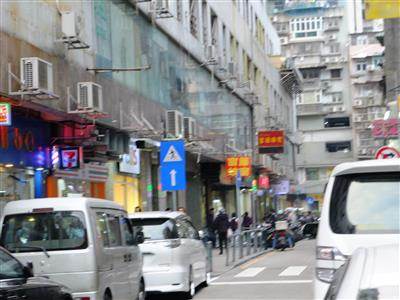oneway: (158, 162, 187, 192)
pedestrianCrossing: (157, 137, 185, 165)
